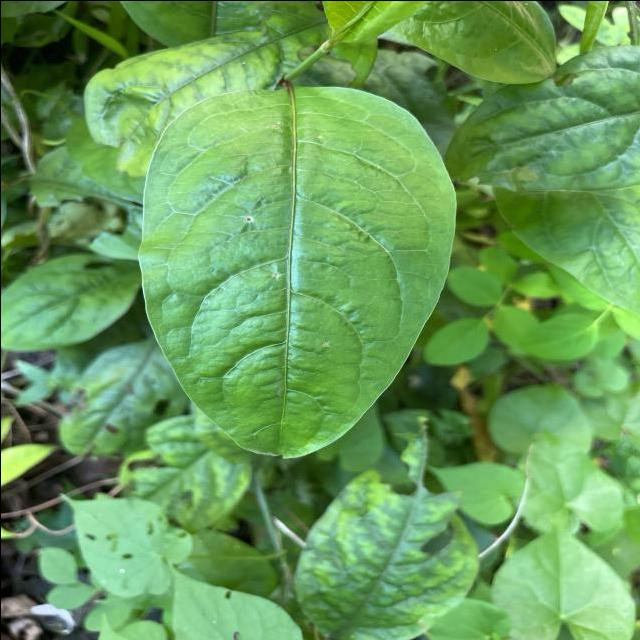Plumbago indica: (128, 80, 460, 463)
